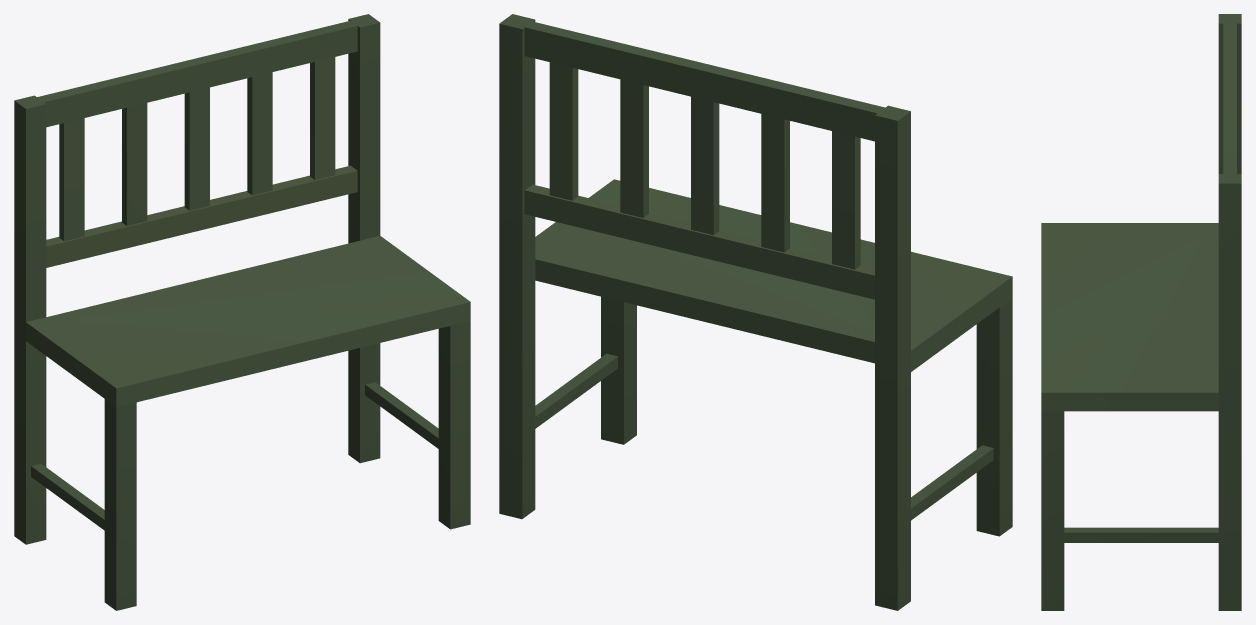
The model's file is seat.bench.green.glb.
3 renders of one model, left to right at view 1: azimuth 30°, elevation 25°; view 2: azimuth 150°, elevation 25°; view 3: azimuth 270°, elevation 25°, orthographic. The views are drawn at different scales.
Visible parts, largest first — view 1: seat_bench_green; view 2: seat_bench_green; view 3: seat_bench_green.
Boxes of the visible parts, x1,y1,x2,y2 form: seat_bench_green: (14, 14, 470, 610); seat_bench_green: (499, 14, 1012, 610); seat_bench_green: (1041, 14, 1241, 610).
Size of what is drawn, in the model's own units: 0.783 by 0.92 by 0.391.
